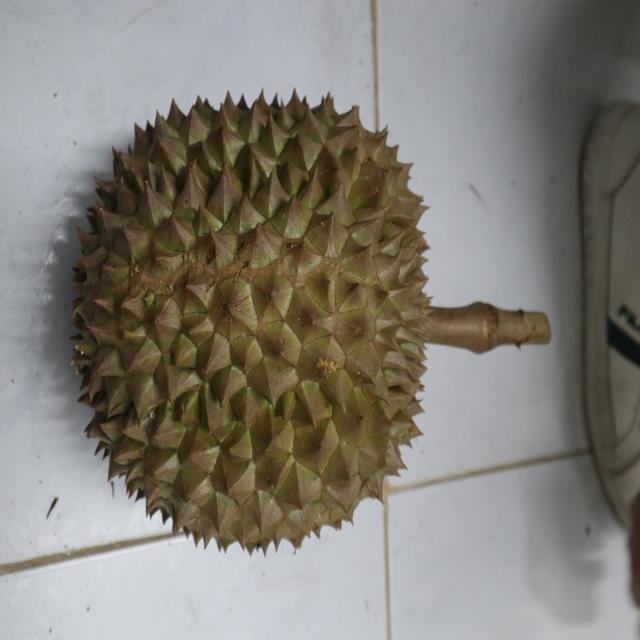mature: (66, 87, 433, 556)
